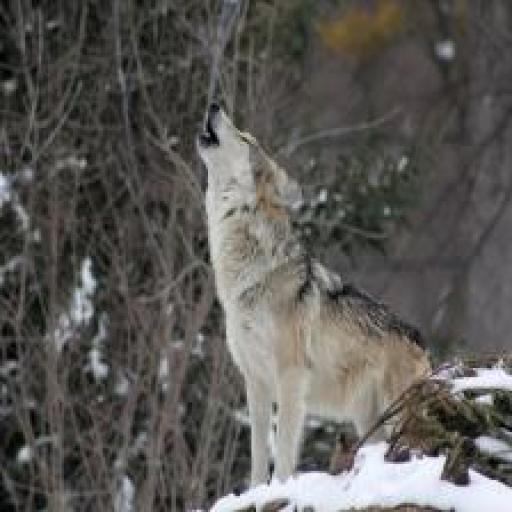wolf: (185, 94, 442, 506)
